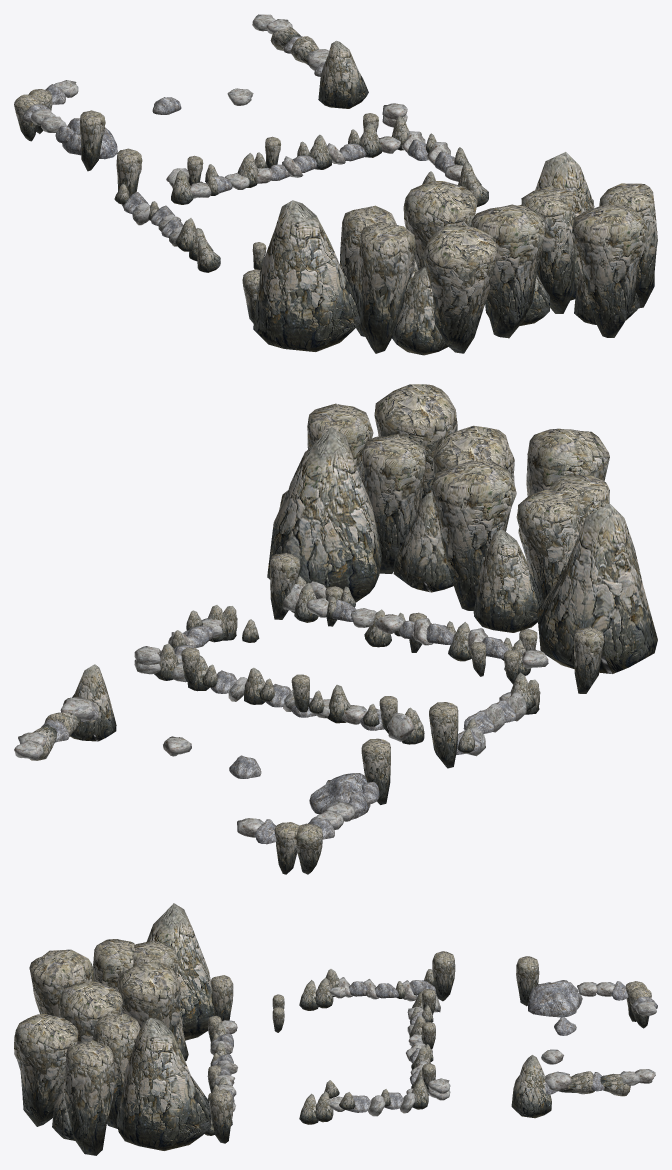
The model's file is Rockes_G.fbx.
3 views of the same model, one above another, from view 1: azimuth 30°, elevation 25°; view 2: azimuth 150°, elevation 25°; view 3: azimuth 270°, elevation 25° (orthographic). The views are drawn at different scales.
Parts seen in each view (by area): view 1: Rockes_G1; view 2: Rockes_G1; view 3: Rockes_G1.
Part boxes in pixels (x1,y1,x2,y2): Rockes_G1: [14, 14, 657, 355]; Rockes_G1: [14, 384, 657, 874]; Rockes_G1: [14, 903, 657, 1155].
Size of the model in its own units: 18063 by 7594 by 33446.
